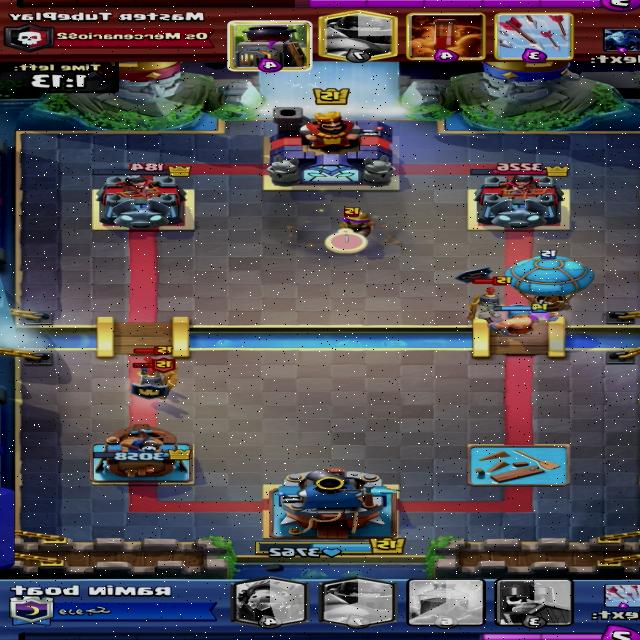Enemy-Guard: (468, 275, 515, 323), (132, 357, 178, 400), (132, 345, 174, 386)
Enemy-Musketeer: (336, 206, 374, 248)
Player-Balloon: (504, 249, 596, 312)
Player-Lumberjack: (478, 302, 559, 338)
